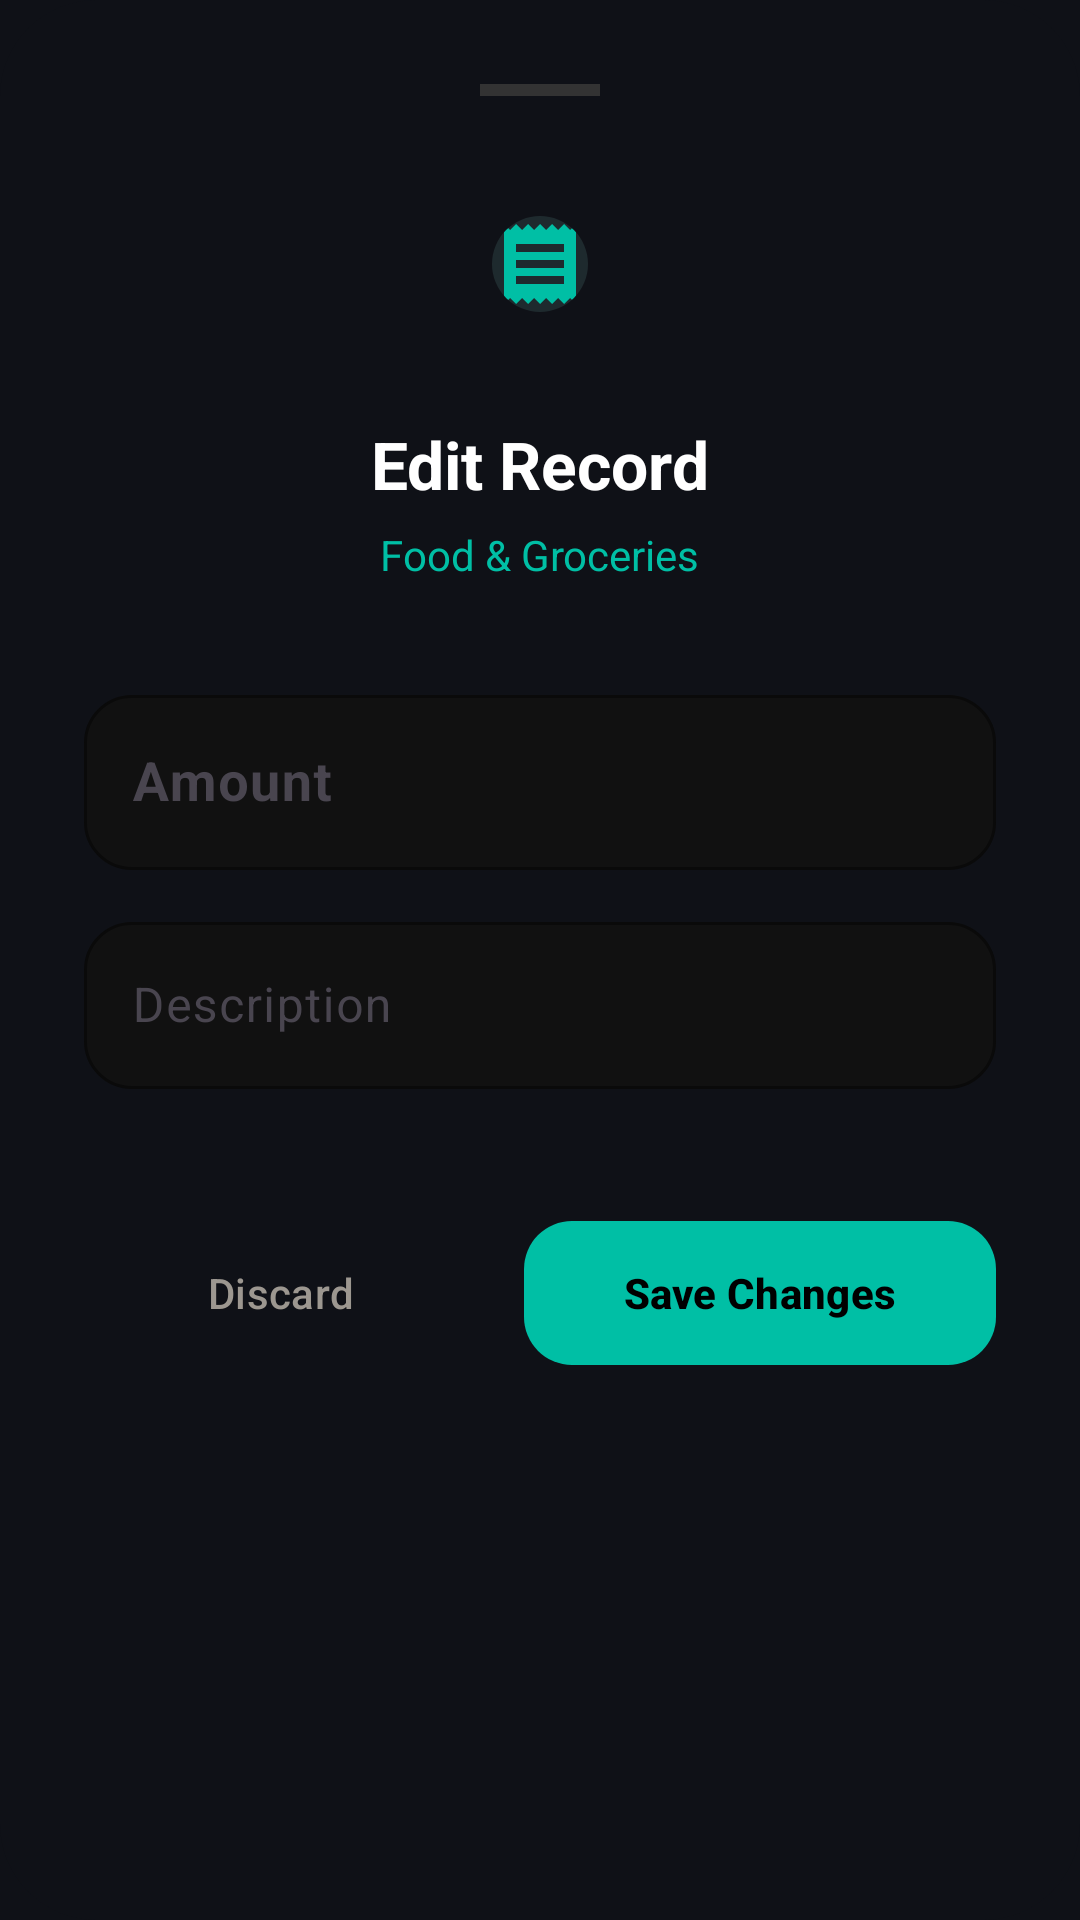

Icons on this 1080px x 1920px Android screen, each with its box as (x1,y1,x2,y2):
receipt: (492,216,587,312)
